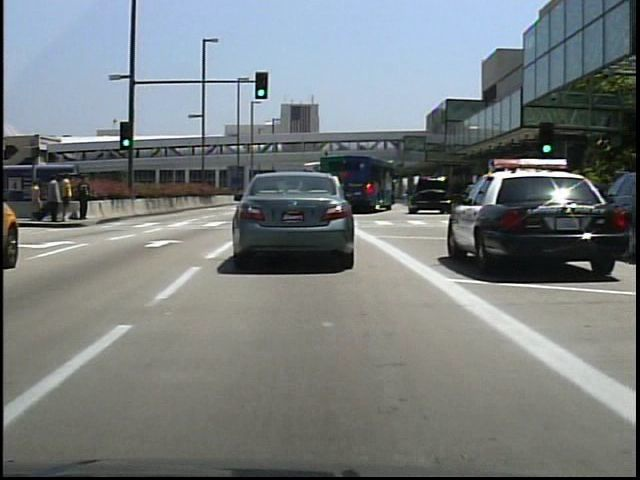person: (77, 172, 95, 223), (27, 177, 46, 222), (60, 170, 76, 223), (47, 173, 64, 222)
